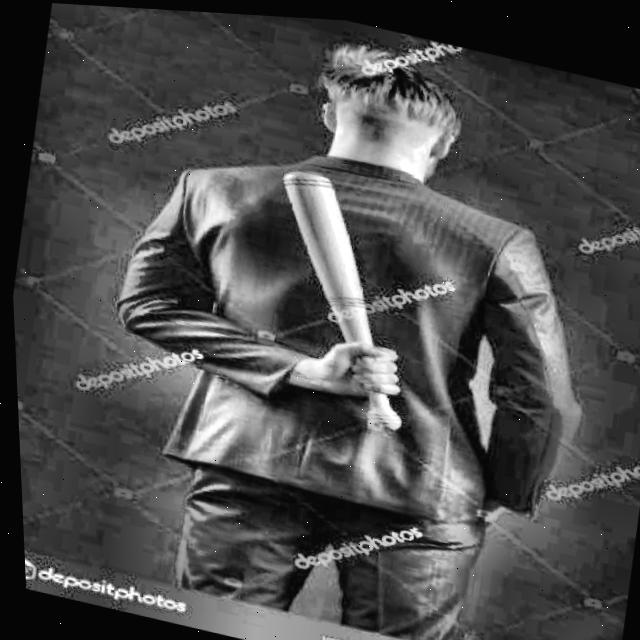tongkat pemukul: (269, 161, 417, 444)
